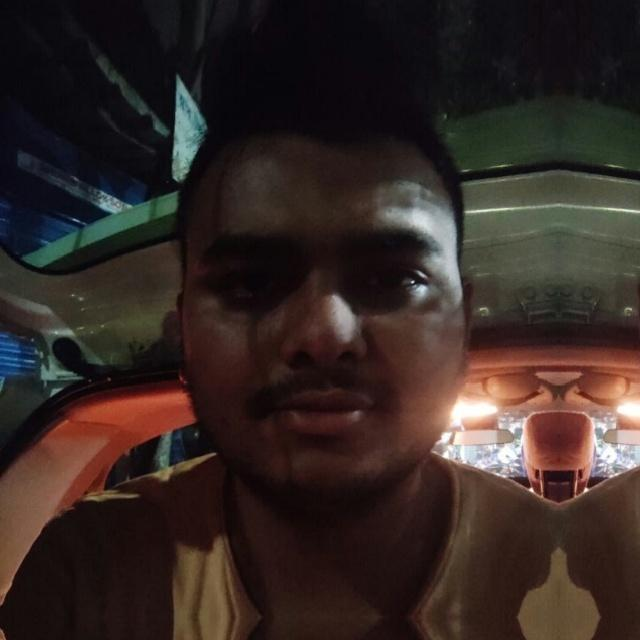Natural: (180, 62, 509, 540)
